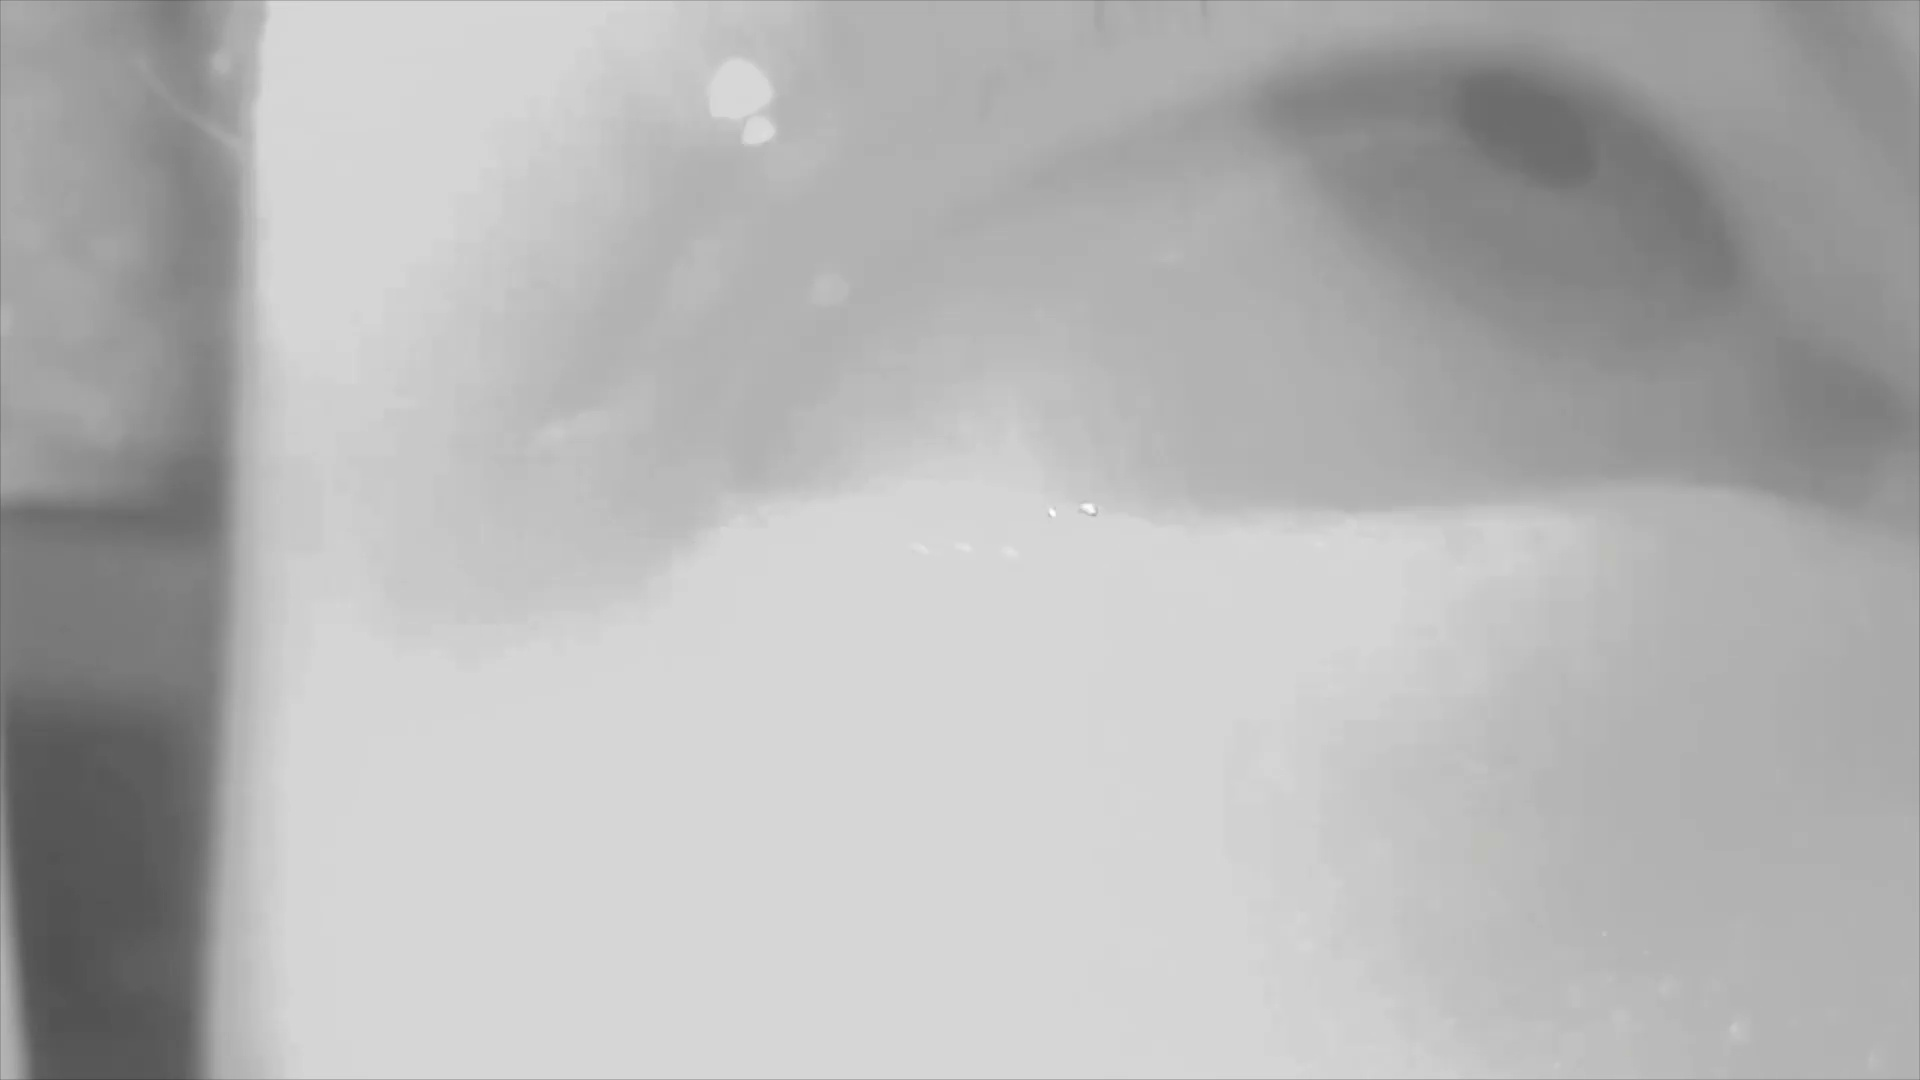pupil: (1460, 66, 1603, 184)
